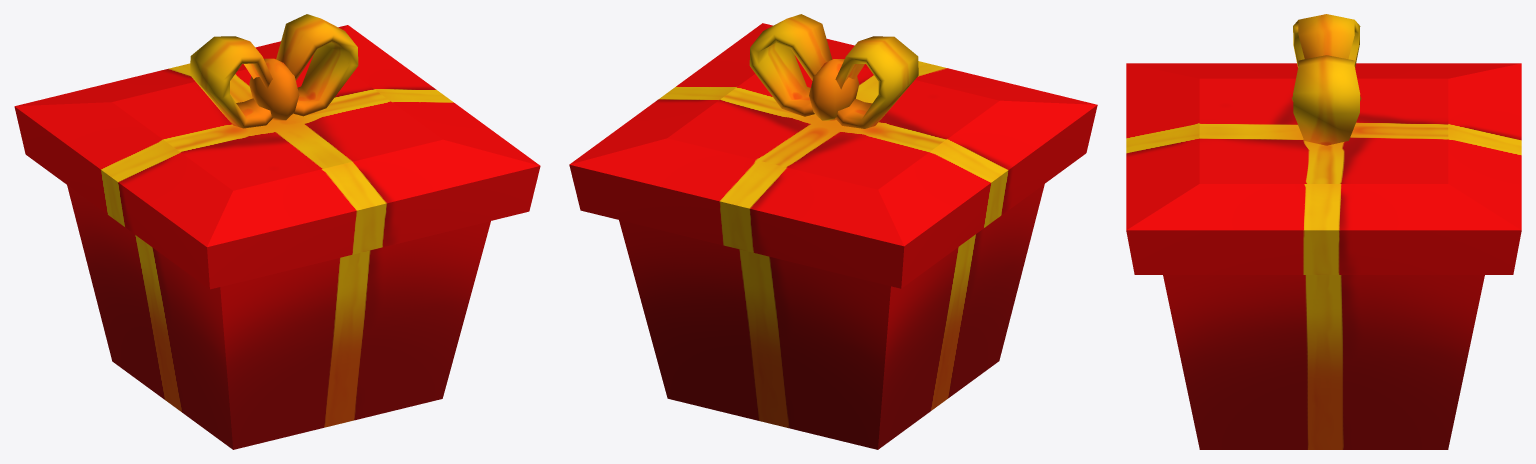
File: presnts.fbx
3 views of the same model, side by side, from view 1: azimuth 30°, elevation 25°; view 2: azimuth 150°, elevation 25°; view 3: azimuth 270°, elevation 25° (orthographic). The views are drawn at different scales.
Parts seen in each view (by area): view 1: Presents; view 2: Presents; view 3: Presents.
Part boxes in pixels (box(x1,y1,x2,y2)): Presents: box(14, 14, 540, 449); Presents: box(569, 14, 1097, 449); Presents: box(1126, 14, 1521, 449).
Size of the model in its own units: 2.33 by 2.34 by 2.33.
1 material, 1 textured.
